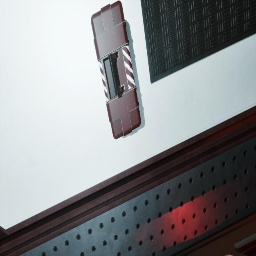FirstAidBox ,: (91, 0, 141, 140)
